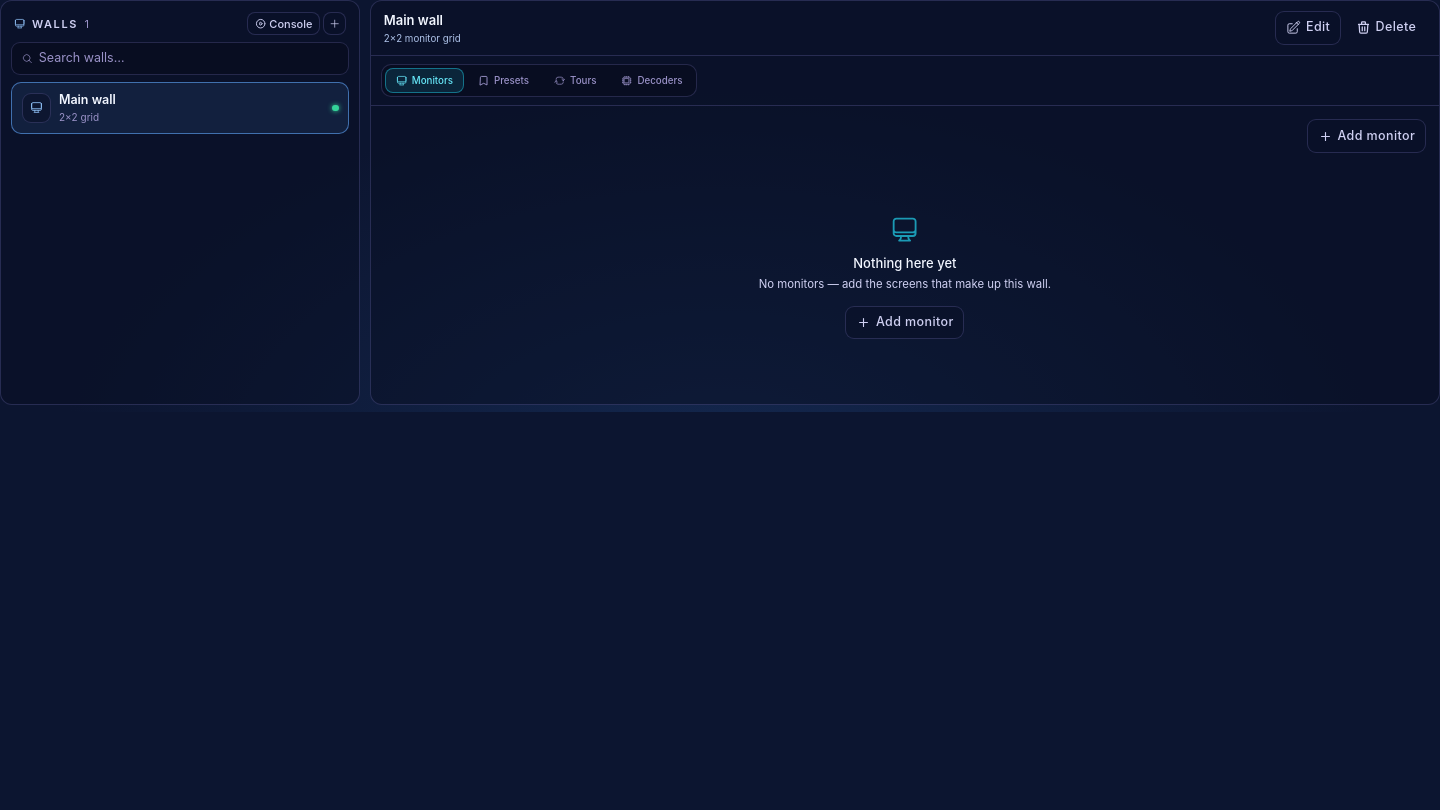
deleting a wall › leaves the wall alone when the operator cancels
The width and height of the screenshot is (1440, 810).
Click the button "Delete": (1386, 28) top-left (1346, 12), bottom-right (1426, 44)
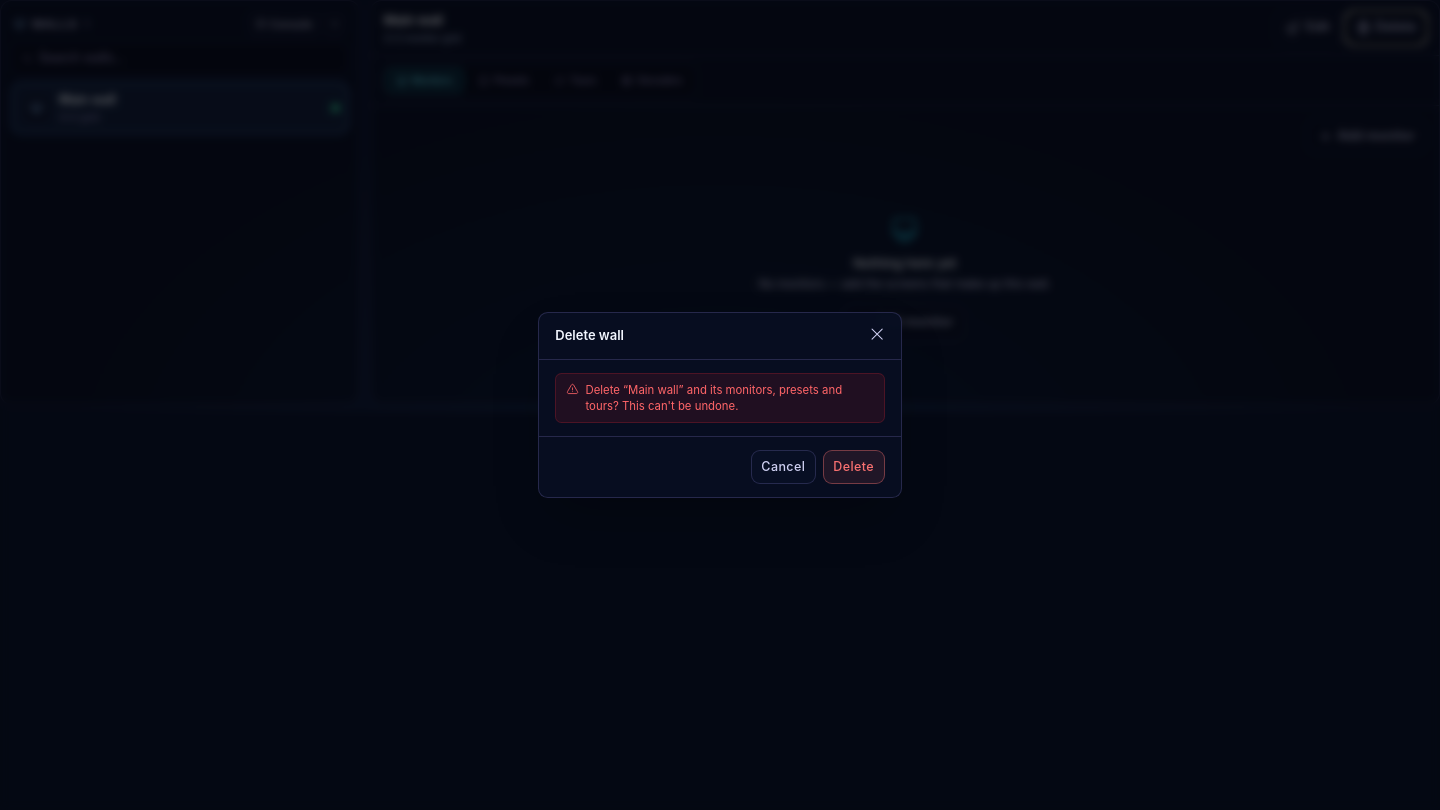
Click the button "Cancel": (783, 467) top-left (751, 450), bottom-right (816, 484)
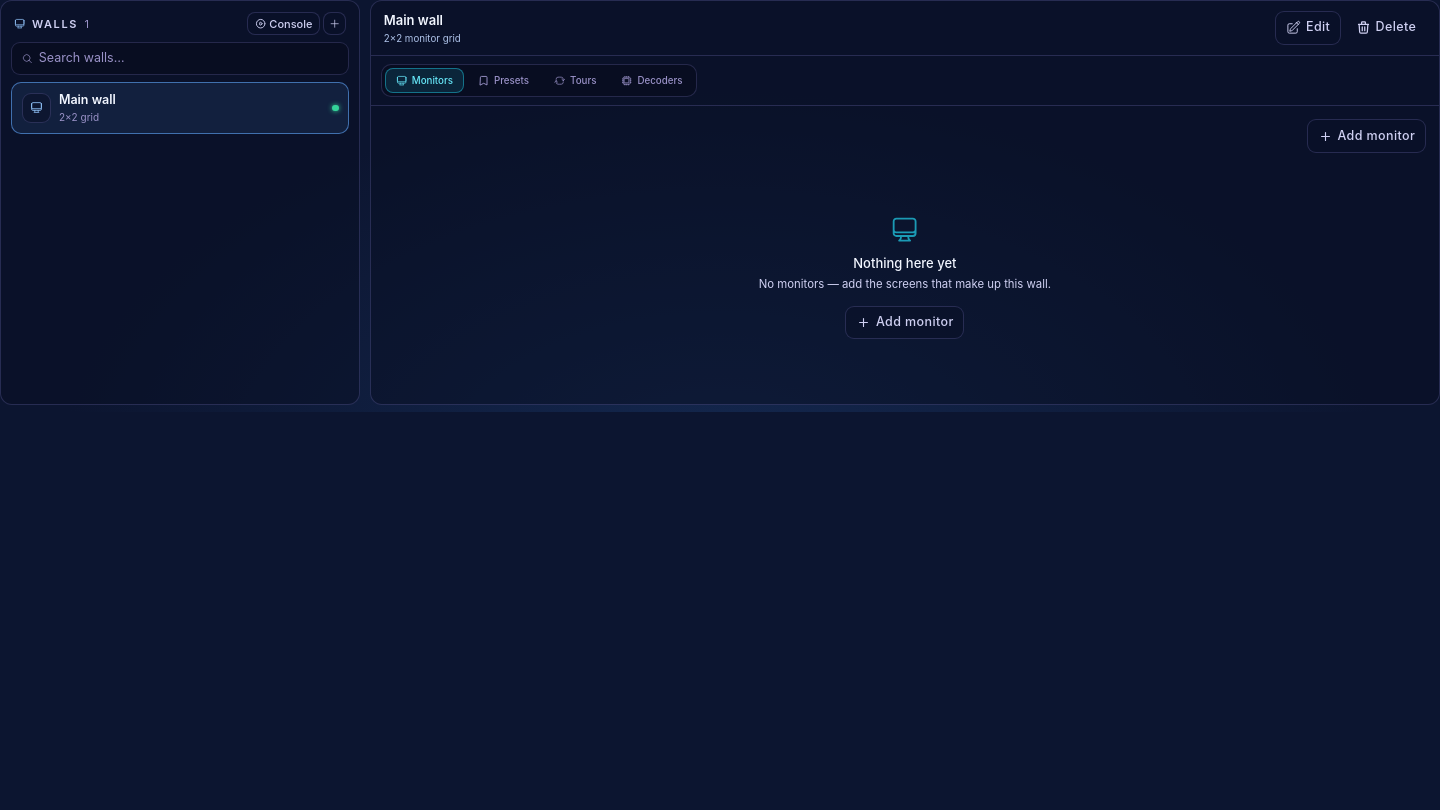
Expected: the heading "Delete wall" is gone
